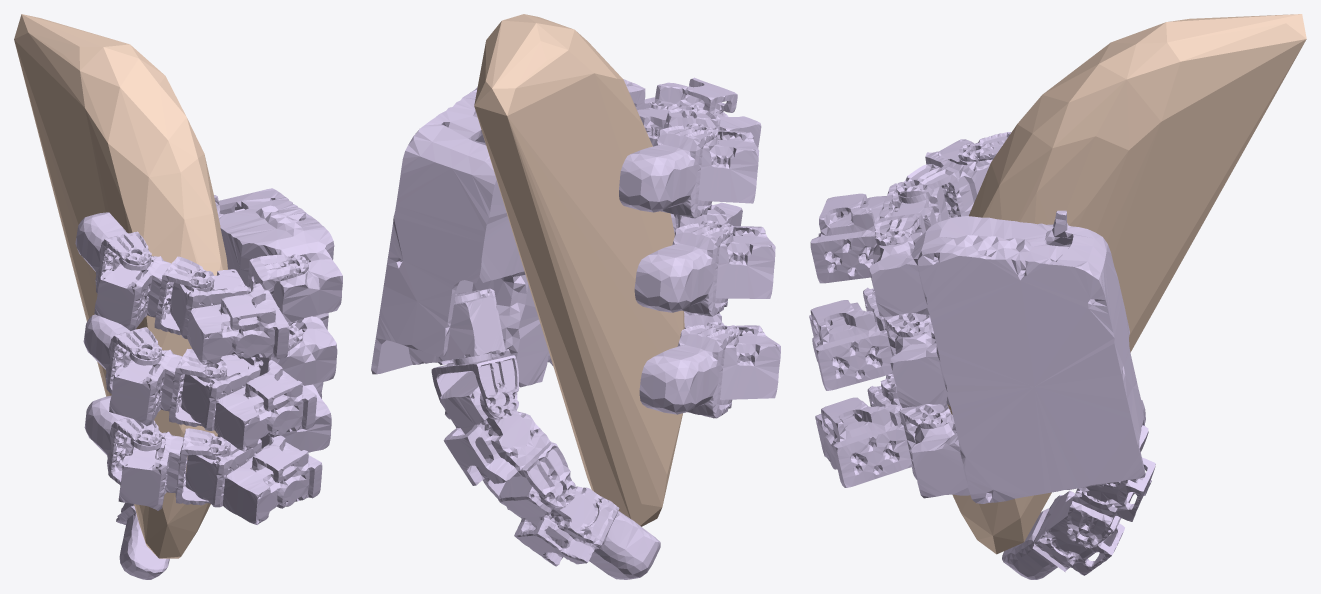
3 views of the same model, side by side, from view 1: azimuth 30°, elevation 25°; view 2: azimuth 150°, elevation 25°; view 3: azimuth 270°, elevation 25° (orthographic). The views are drawn at different scales.
Parts seen in each view (by area): view 1: LEAP_hand, world; view 2: LEAP_hand, world; view 3: LEAP_hand, world.
Boxes of the visible parts, x1,y1,x2,y2 form: LEAP_hand: (75, 188, 342, 579); world: (14, 14, 227, 558); LEAP_hand: (371, 77, 780, 579); world: (474, 14, 684, 526); LEAP_hand: (809, 132, 1155, 579); world: (947, 14, 1306, 554).
Size of the model in its own units: 0.141 by 0.2791 by 0.2234.
